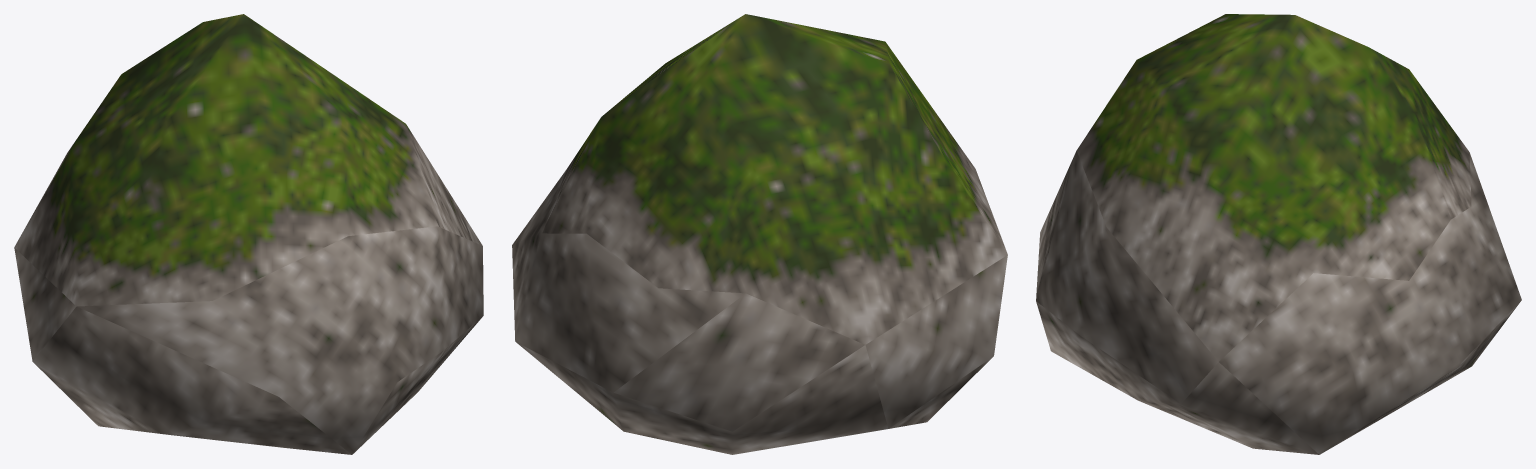
The model's file is lboulderswa_0.dae.
The picture shows the model from 3 angles, left to right: view 1: azimuth 30°, elevation 25°; view 2: azimuth 150°, elevation 25°; view 3: azimuth 270°, elevation 25°; orthographic projection. The views are drawn at different scales.
Parts seen in each view (by area): view 1: lboulderswa_0; view 2: lboulderswa_0; view 3: lboulderswa_0.
Part boxes in pixels (left/top/right/bottom): lboulderswa_0: left=14, top=14, right=483, bottom=454; lboulderswa_0: left=512, top=14, right=1007, bottom=454; lboulderswa_0: left=1036, top=14, right=1521, bottom=454.
Size of the model in its own units: 2.39 by 2.35 by 2.03.
Materials: 1 (1 with a texture image).
